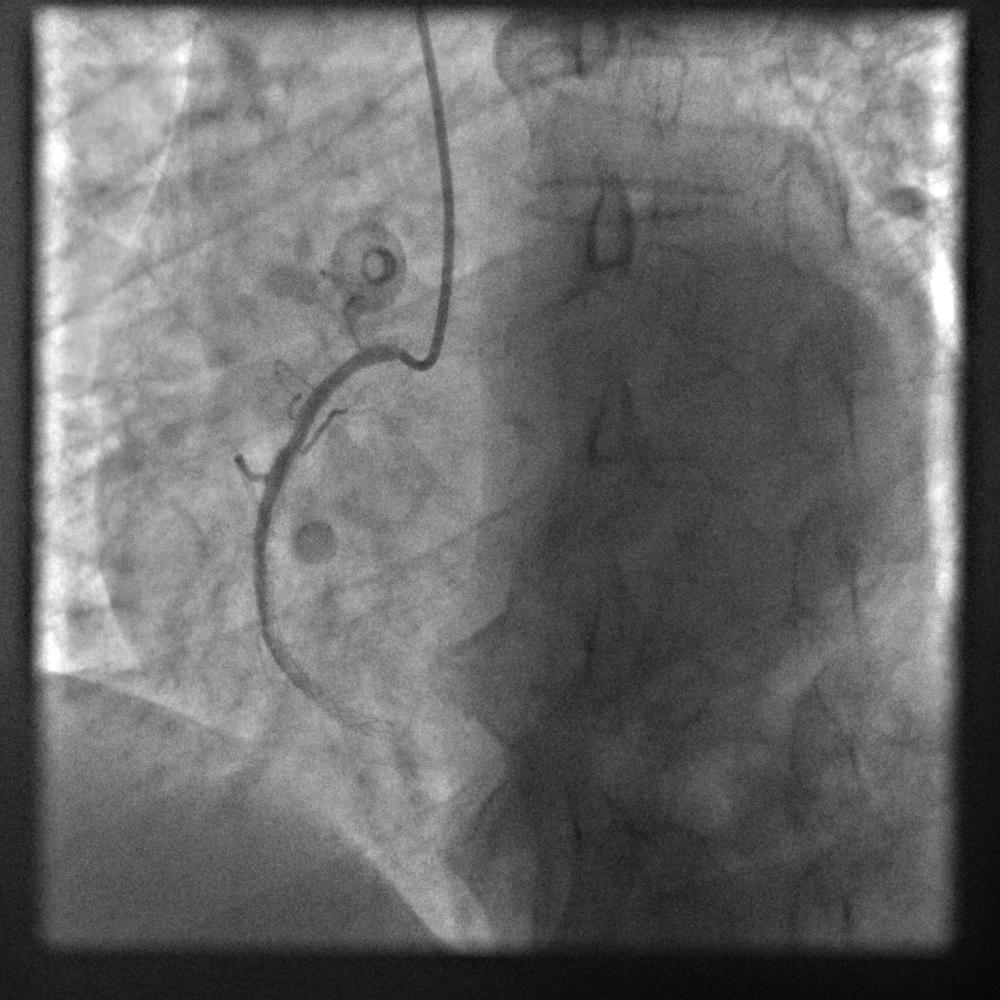Stenosis: (277, 418, 304, 470)
